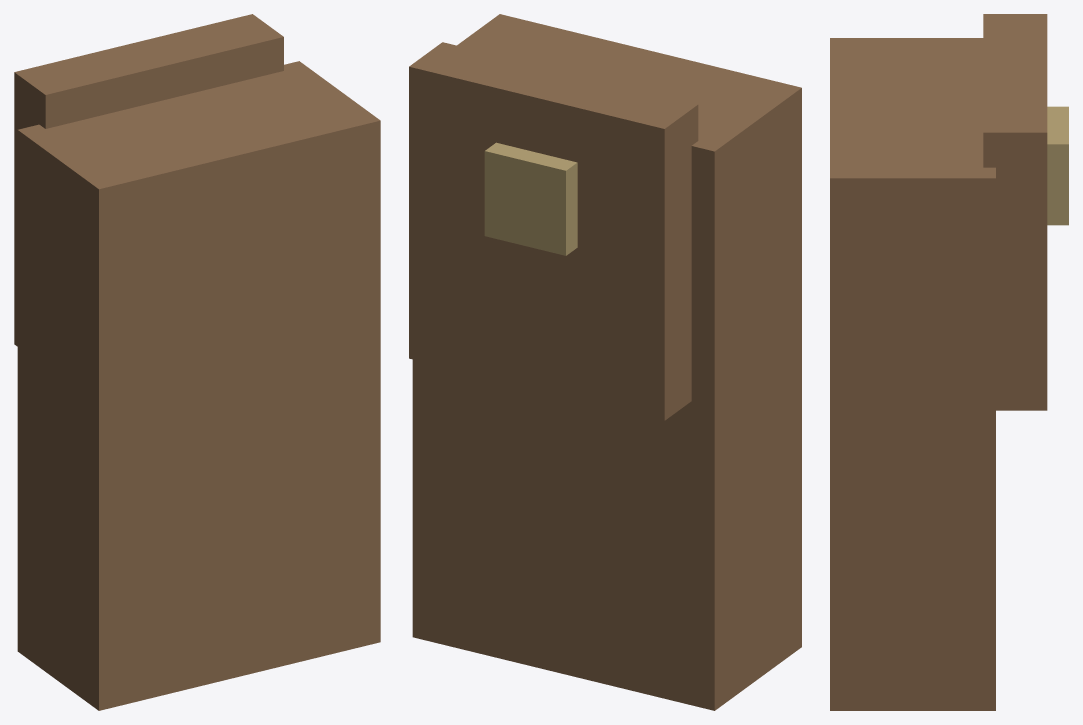
Rendered from leather_holster.glb.
3 renders of one model, left to right at view 1: azimuth 30°, elevation 25°; view 2: azimuth 150°, elevation 25°; view 3: azimuth 270°, elevation 25°, orthographic. The views are drawn at different scales.
Parts seen in each view (by area): view 1: world; view 2: world; view 3: world.
Boxes of the visible parts, box(x1,y1,x2,y2) form: world: box(14, 14, 380, 710); world: box(409, 14, 801, 710); world: box(830, 14, 1068, 710).
Size of the model in its own units: 0.13 by 0.245 by 0.0935.
